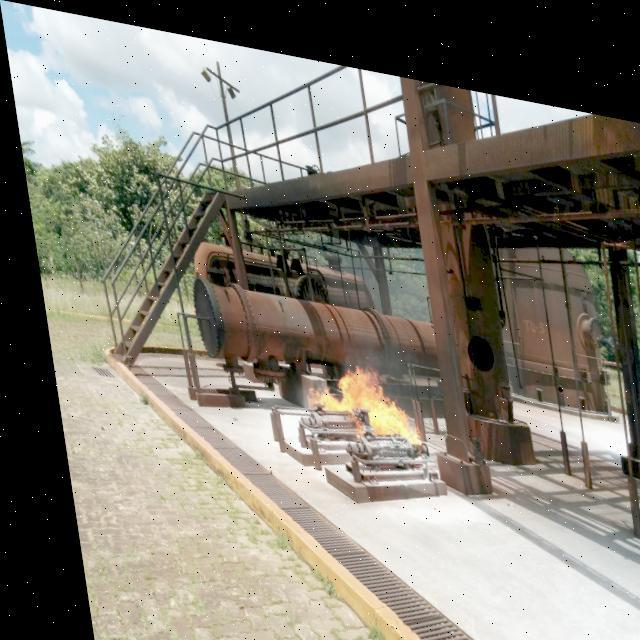Fire: (294, 348, 414, 447)
